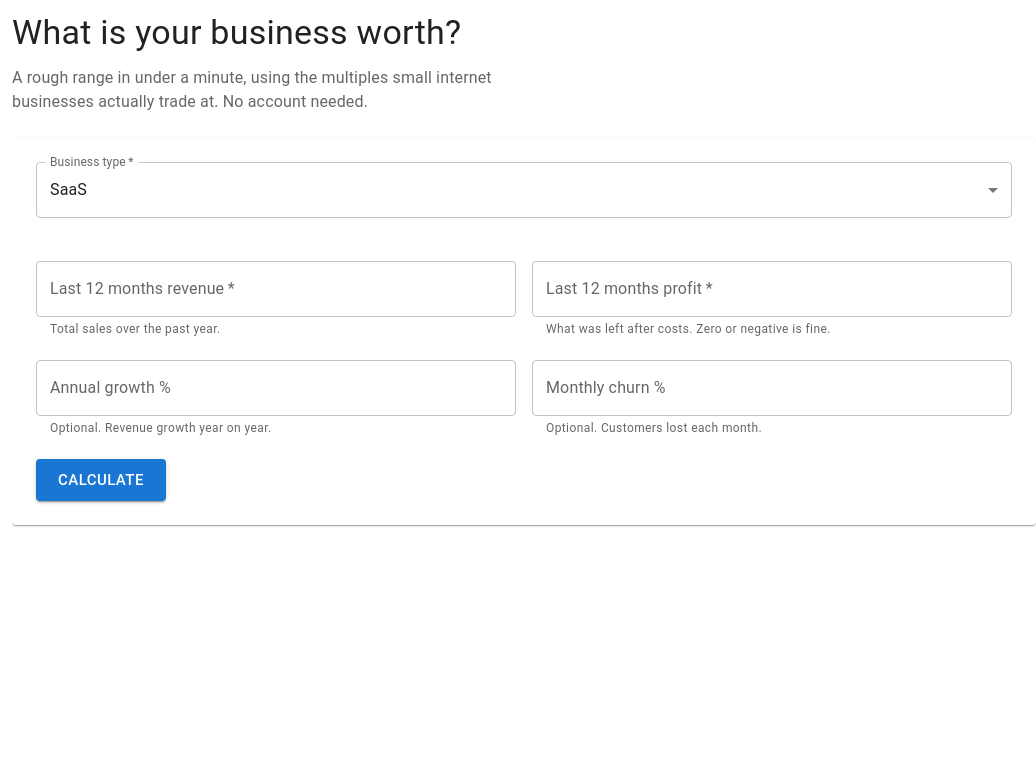
Test: ValuationCalculator › U2: submitting shows the range, the explanation and the disclaimer
Step 1. Select "SaaS" in the dropdown labelled "Business type *" → (524, 190), box [36,162,1012,218]
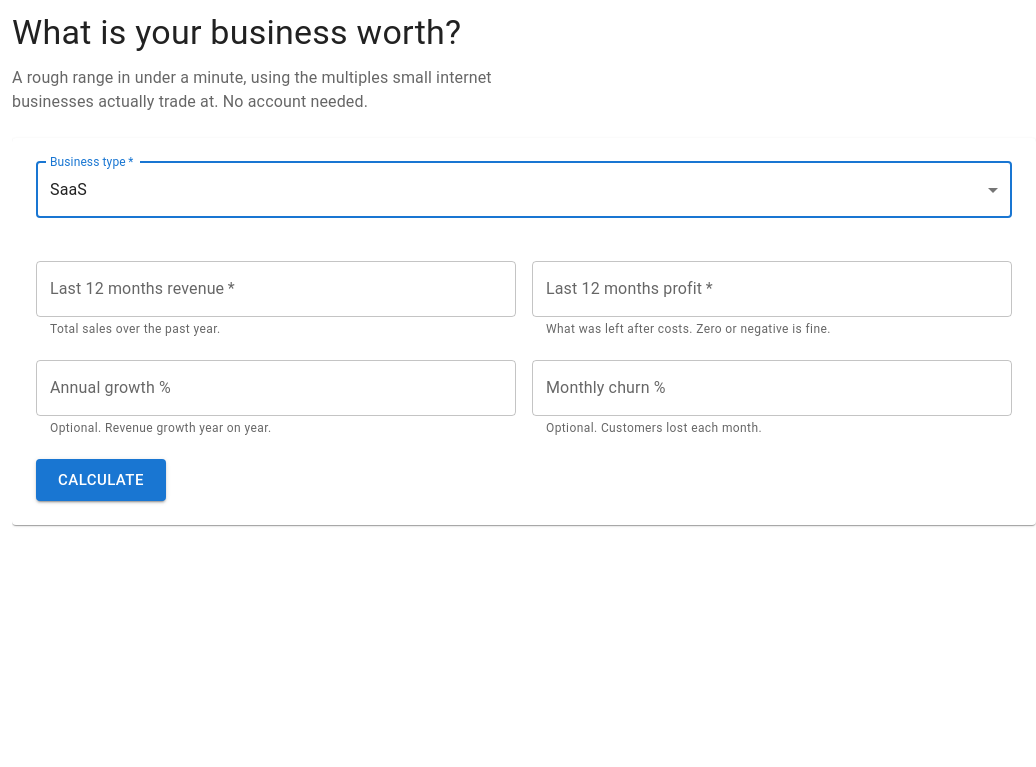
Step 2. Type "200000" into the field labelled "Last 12 months revenue *" → (276, 289), box [36,261,516,317]
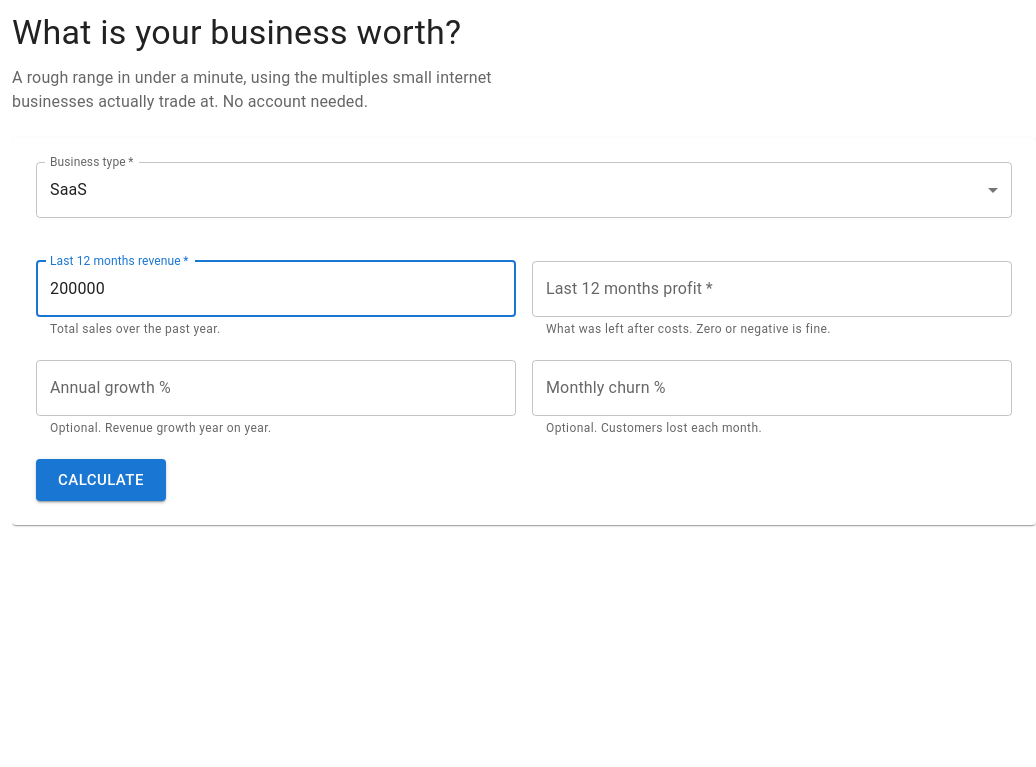
Step 3. Type "100000" into the field labelled "Last 12 months profit *" → (772, 289), box [532,261,1012,317]
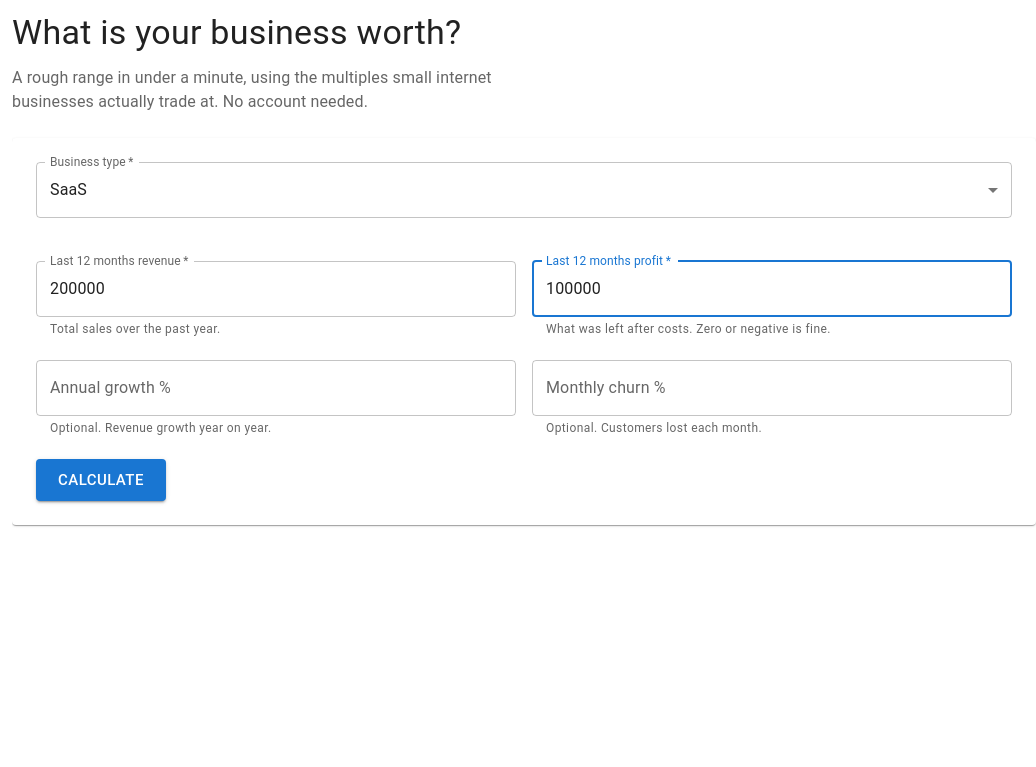
Step 4. Click the button "Calculate" → (101, 480), box [36,459,166,501]
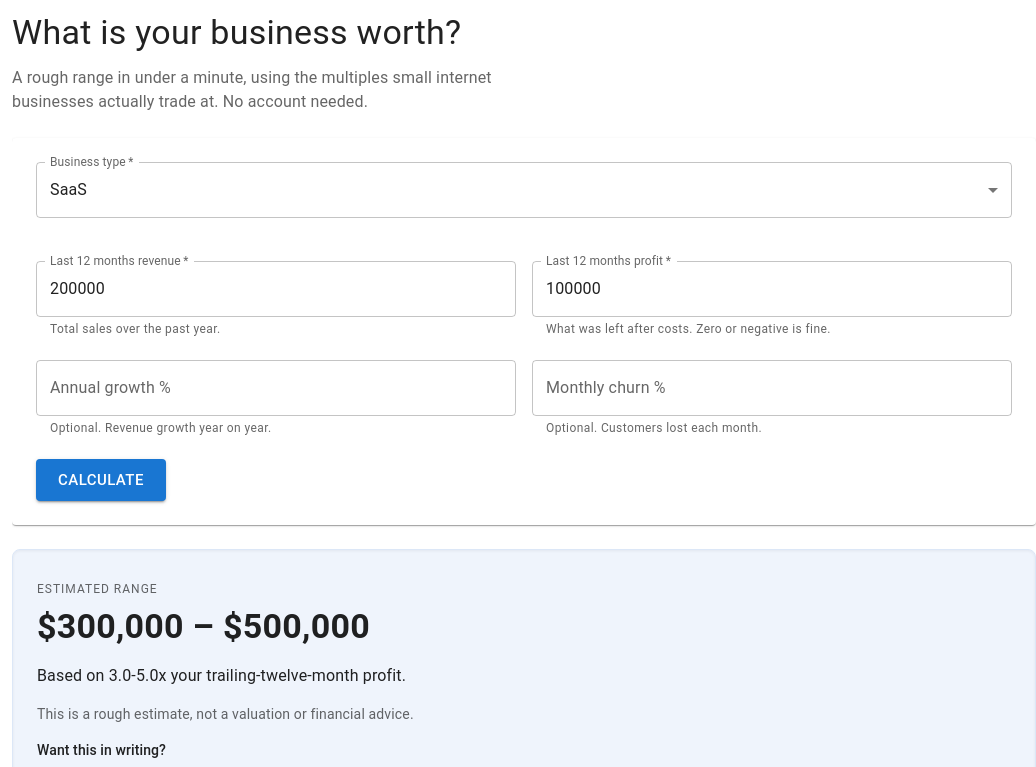
Check: the text "$300,000 – $500,000" is shown, box [37,606,370,646]
Check: the text "Based on 3.0-5.0x your trailing-twelve-month profit." is shown, box [37,666,406,685]
Check: the text "not a valuation or financial advice" is shown, box [37,706,414,722]
